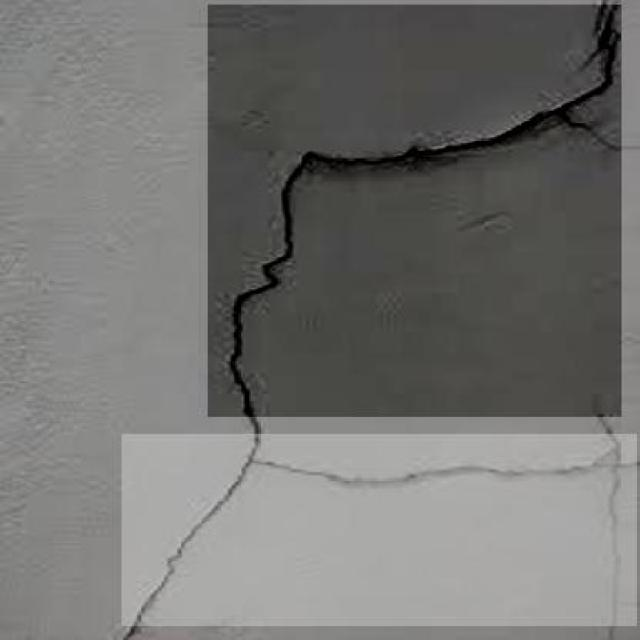Crack: (217, 0, 640, 434), (110, 432, 640, 640)
